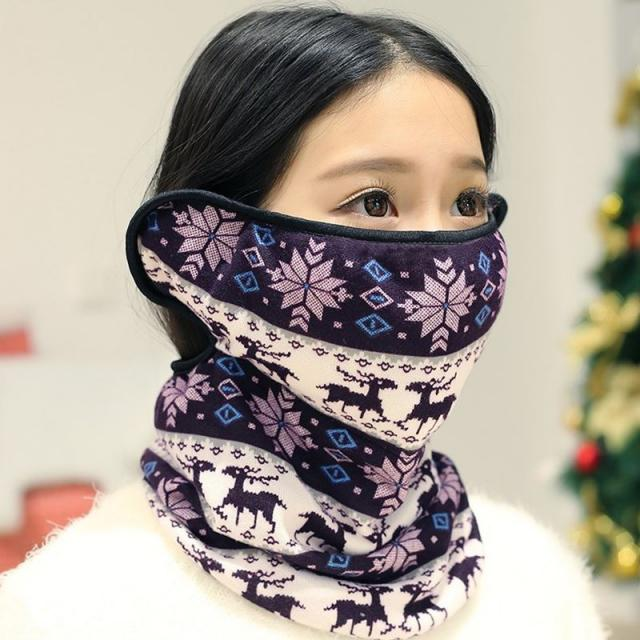mask: (274, 83, 496, 373)
